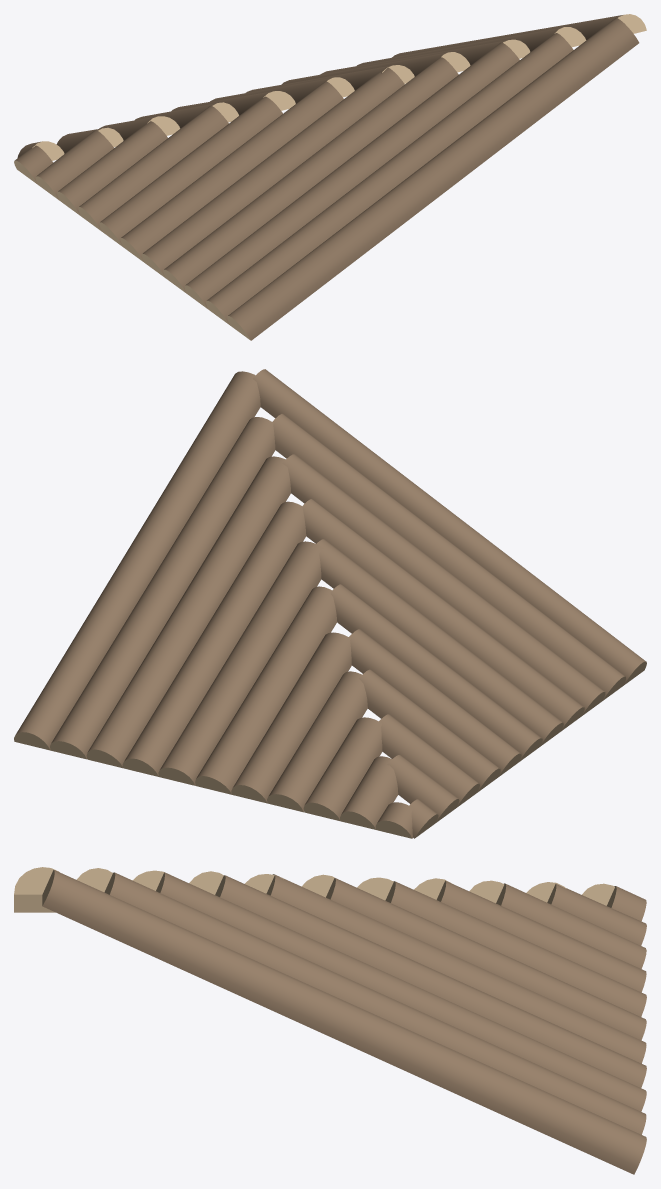
Rendered from log_roof_outer_low.glb.
3 views of the same model, one above another, from view 1: azimuth 30°, elevation 25°; view 2: azimuth 150°, elevation 25°; view 3: azimuth 270°, elevation 25° (orthographic). The views are drawn at different scales.
Visible parts, largest first — view 1: Roof; view 2: Roof; view 3: Roof.
Boxes of the visible parts, bbox=[...] form: Roof: bbox=[14, 14, 646, 340]; Roof: bbox=[14, 369, 646, 838]; Roof: bbox=[14, 867, 646, 1174].
Size of the model in its own units: 3.16 by 1.6 by 3.16.
